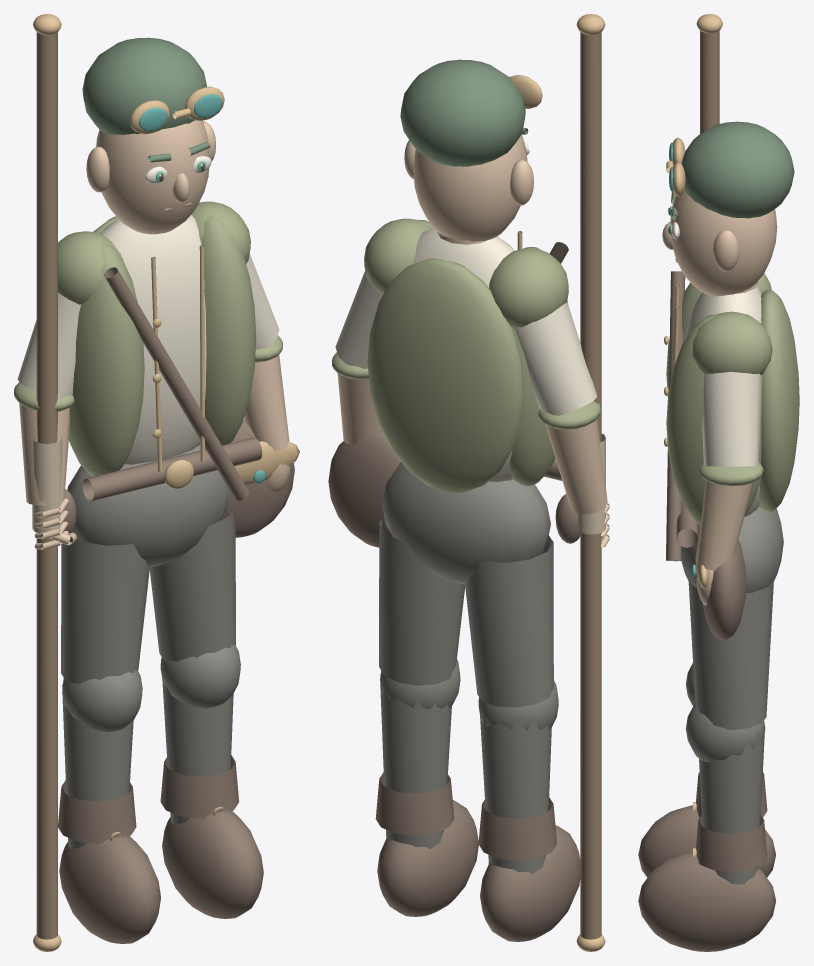
File: Ender.glb
The picture shows the model from 3 angles, left to right: view 1: azimuth 30°, elevation 25°; view 2: azimuth 150°, elevation 25°; view 3: azimuth 270°, elevation 25°; orthographic projection. The views are drawn at different scales.
Visible parts, largest first — view 1: Ender_lookdev; view 2: Ender_lookdev; view 3: Ender_lookdev.
Boxes of the visible parts, box(x1,y1,x2,y2) form: Ender_lookdev: box(14, 14, 299, 951); Ender_lookdev: box(328, 14, 609, 951); Ender_lookdev: box(638, 14, 799, 951).
Size of the model in its own units: 0.5632 by 1.86 by 0.316.
